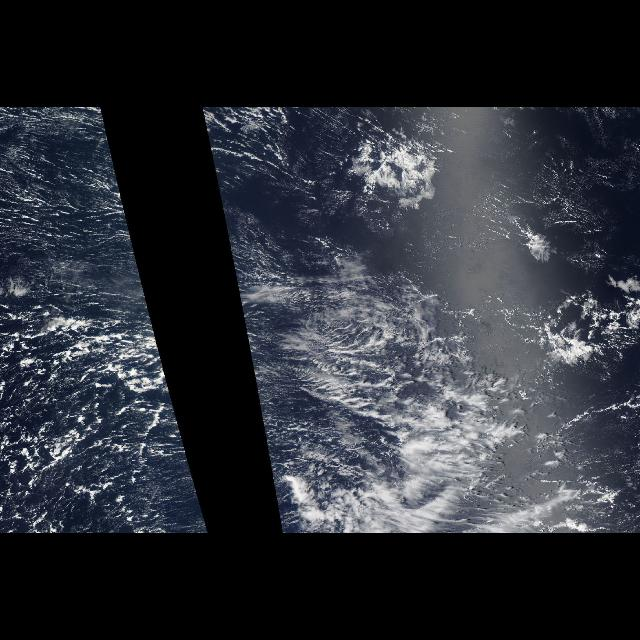Fish: (269, 257, 516, 449)
Gravel: (2, 294, 208, 532)
Sugar: (0, 108, 150, 310), (201, 108, 335, 310)
